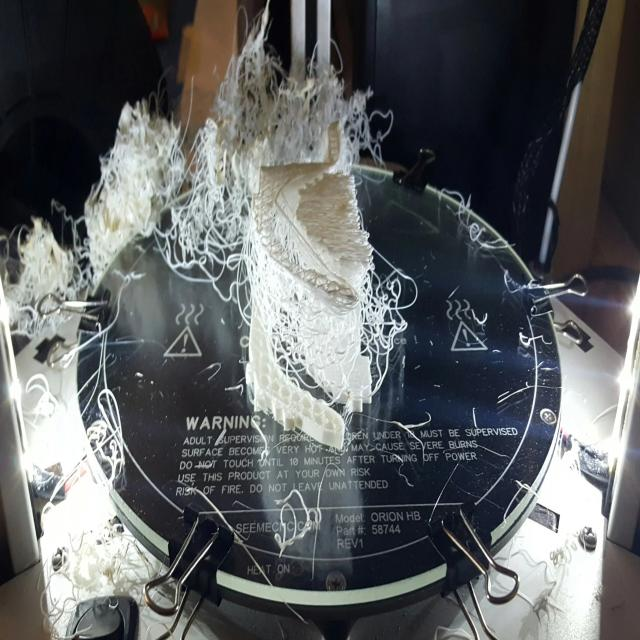spaghetti: (4, 9, 440, 607)
